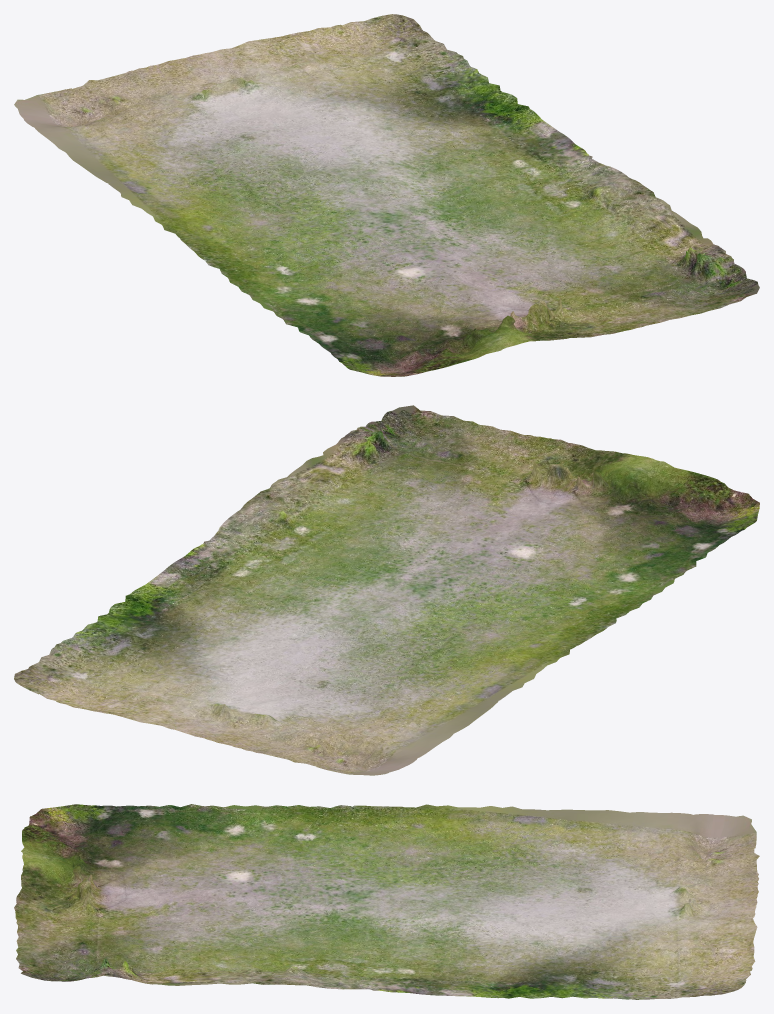
Rendered from field.glb.
The picture shows the model from 3 angles, top to bottom: view 1: azimuth 30°, elevation 25°; view 2: azimuth 150°, elevation 25°; view 3: azimuth 270°, elevation 25°; orthographic projection. The views are drawn at different scales.
Parts seen in each view (by area): view 1: Object_2; view 2: Object_2; view 3: Object_2.
Boxes of the visible parts, box(x1,y1,x2,y2) form: Object_2: box(14, 14, 759, 376); Object_2: box(14, 405, 759, 775); Object_2: box(14, 804, 759, 999).
Bounding box in the file's own units: 19.04 × 1.5 × 31.66.
Materials: 1 (1 with a texture image).
